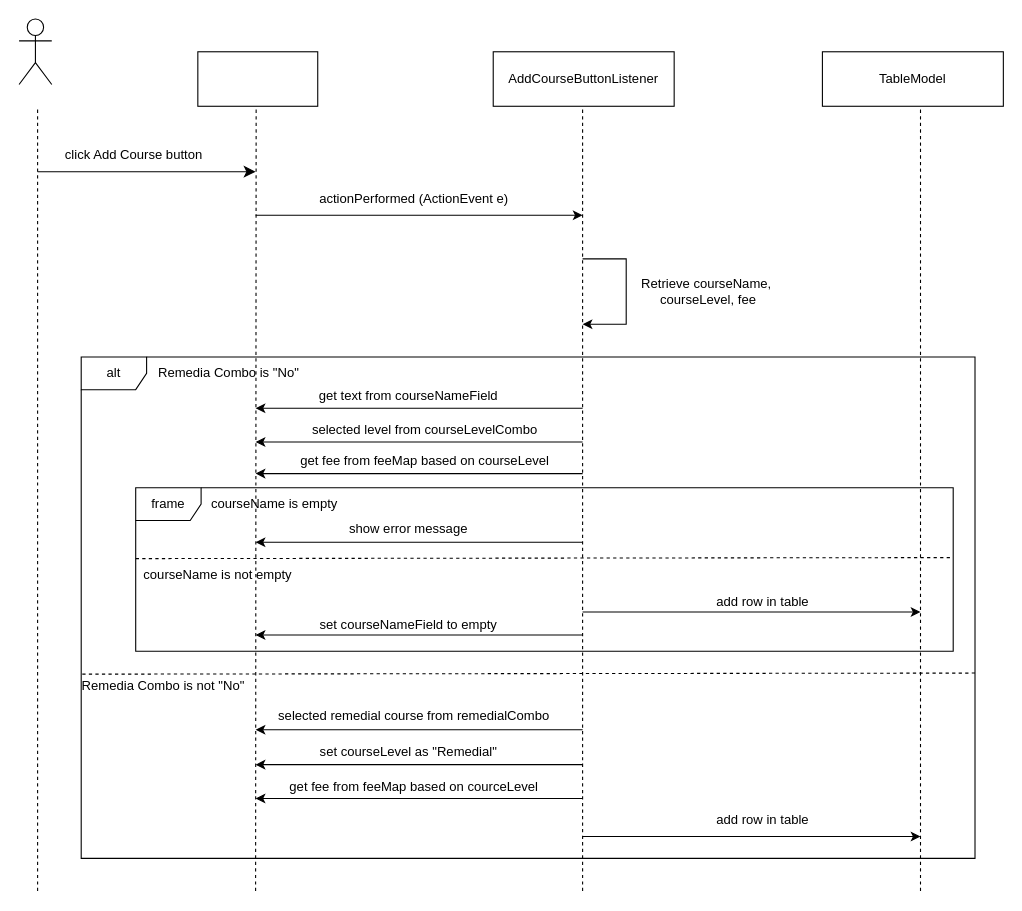
The diagram is 1022 pixels wide and 911 high, and some of its shapes have lost their labels. The centre of each missing label's shape, as x and y in pixels:
"CoursePanel" belongs at point (257, 78).
"User" belongs at point (35, 51).
